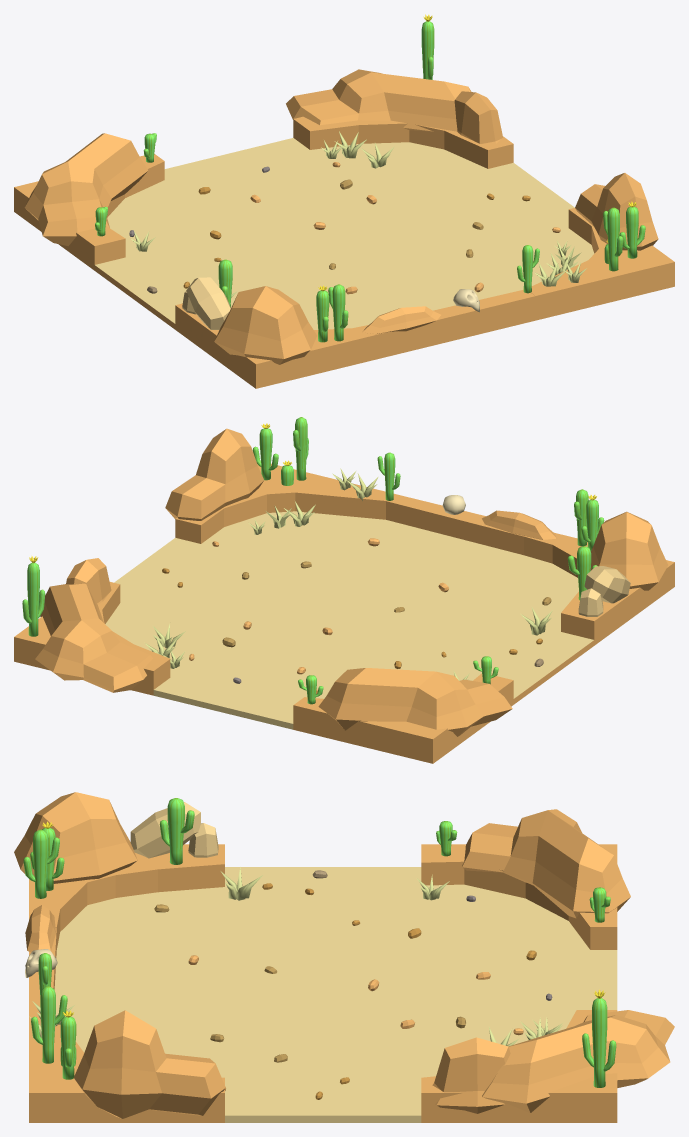
Rendered from desert level set - 3 Way (3).fbx.
3 renders of one model, top to bottom at view 1: azimuth 30°, elevation 25°; view 2: azimuth 150°, elevation 25°; view 3: azimuth 270°, elevation 25°, orthographic. The views are drawn at different scales.
Visible parts, largest first — view 1: land_platform_001, Cube_004, Cube_008, Cube_005, Cube_009, Cube_006, Cube_007, Cube_000, CACTUS_009, CACTUS_001, CACTUS_002, CACTUS_005 (+2 smaller); view 2: land_platform_001, Cube_004, Cube_008, Cube_009, Cube_005, Cube_007, Cube_000, Cube_006, CACTUS_005, CACTUS_001, CACTUS_009, CACTUS_007 (+3 smaller); view 3: land_platform_001, Cube_009, Cube_004, Cube_008, Cube_005, Cube_006, Cube_007, CACTUS_005, CACTUS_009, CACTUS_006, CACTUS_002, Cube_000 (+5 smaller).
Boxes of the visible parts, x1,y1,x2,y2 form: land_platform_001: (14,116,674,388); Cube_004: (24,133,148,246); Cube_008: (286,69,471,131); Cube_005: (214,286,317,364); Cube_009: (575,173,658,250); Cube_006: (454,91,502,143); Cube_007: (182,277,230,329); Cube_000: (362,306,440,334); CACTUS_009: (603,207,623,271); CACTUS_001: (619,201,645,258); CACTUS_002: (328,284,348,341); CACTUS_005: (421,14,434,79); land_platform_001: (14,463,674,763); Cube_004: (318,668,512,736); Cube_008: (35,583,152,692); Cube_009: (165,428,264,520); Cube_005: (590,511,668,590); Cube_007: (578,566,630,616); Cube_000: (482,510,556,539); Cube_006: (66,558,111,604); CACTUS_005: (22,556,45,636); CACTUS_001: (252,423,278,480); CACTUS_009: (293,417,308,480); CACTUS_007: (581,495,604,551); land_platform_001: (29,844,617,1122); Cube_009: (73,1010,225,1118); Cube_004: (462,809,630,918); Cube_008: (482,1010,674,1112); Cube_005: (14,792,137,883); Cube_006: (432,1037,510,1113); Cube_007: (130,802,218,858); CACTUS_005: (582,989,616,1087); CACTUS_009: (31,986,67,1063); CACTUS_006: (159,798,194,864); CACTUS_002: (23,829,59,898); Cube_000: (25,905,55,952).
Bounding box in the file's own units: 16.67 × 3.6 × 17.05.
